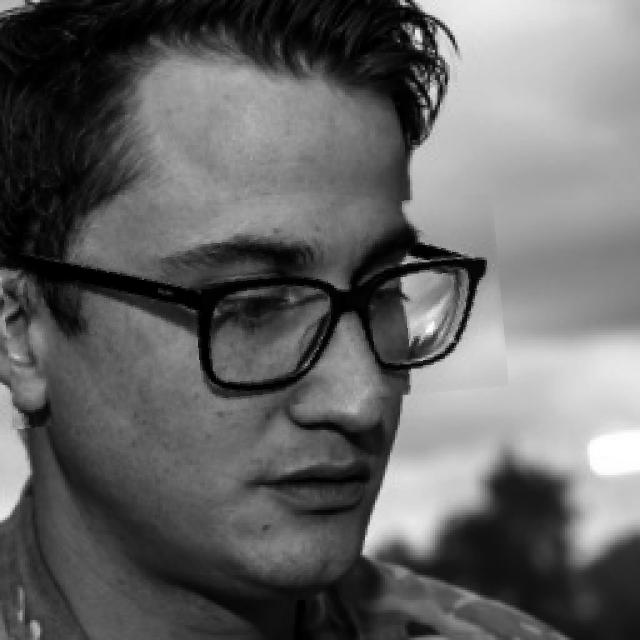glasses: (1, 204, 505, 418)
